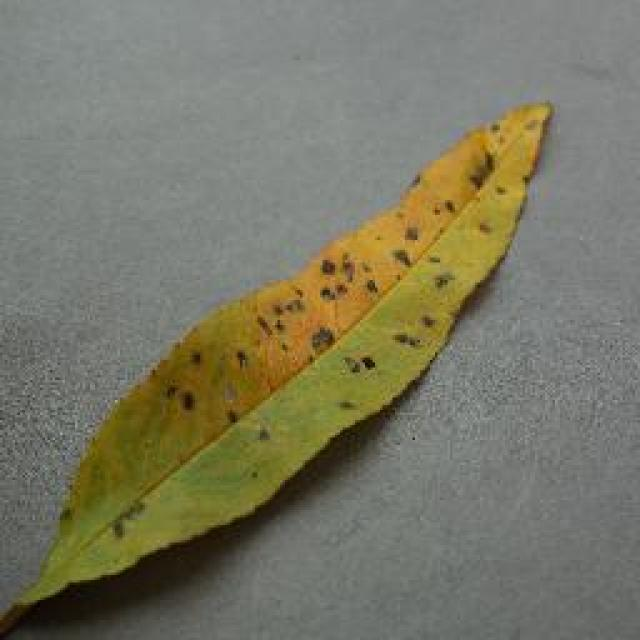Peach_Bacterial_Spot: (235, 188, 503, 412)
